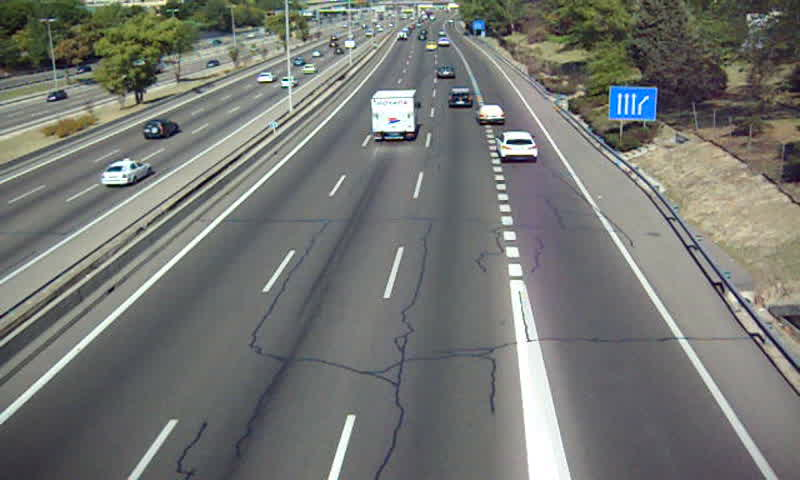car: (495, 130, 537, 159), (447, 87, 475, 108), (475, 104, 504, 122), (436, 66, 454, 80), (437, 36, 451, 46)
small-truck: (370, 88, 418, 141)
